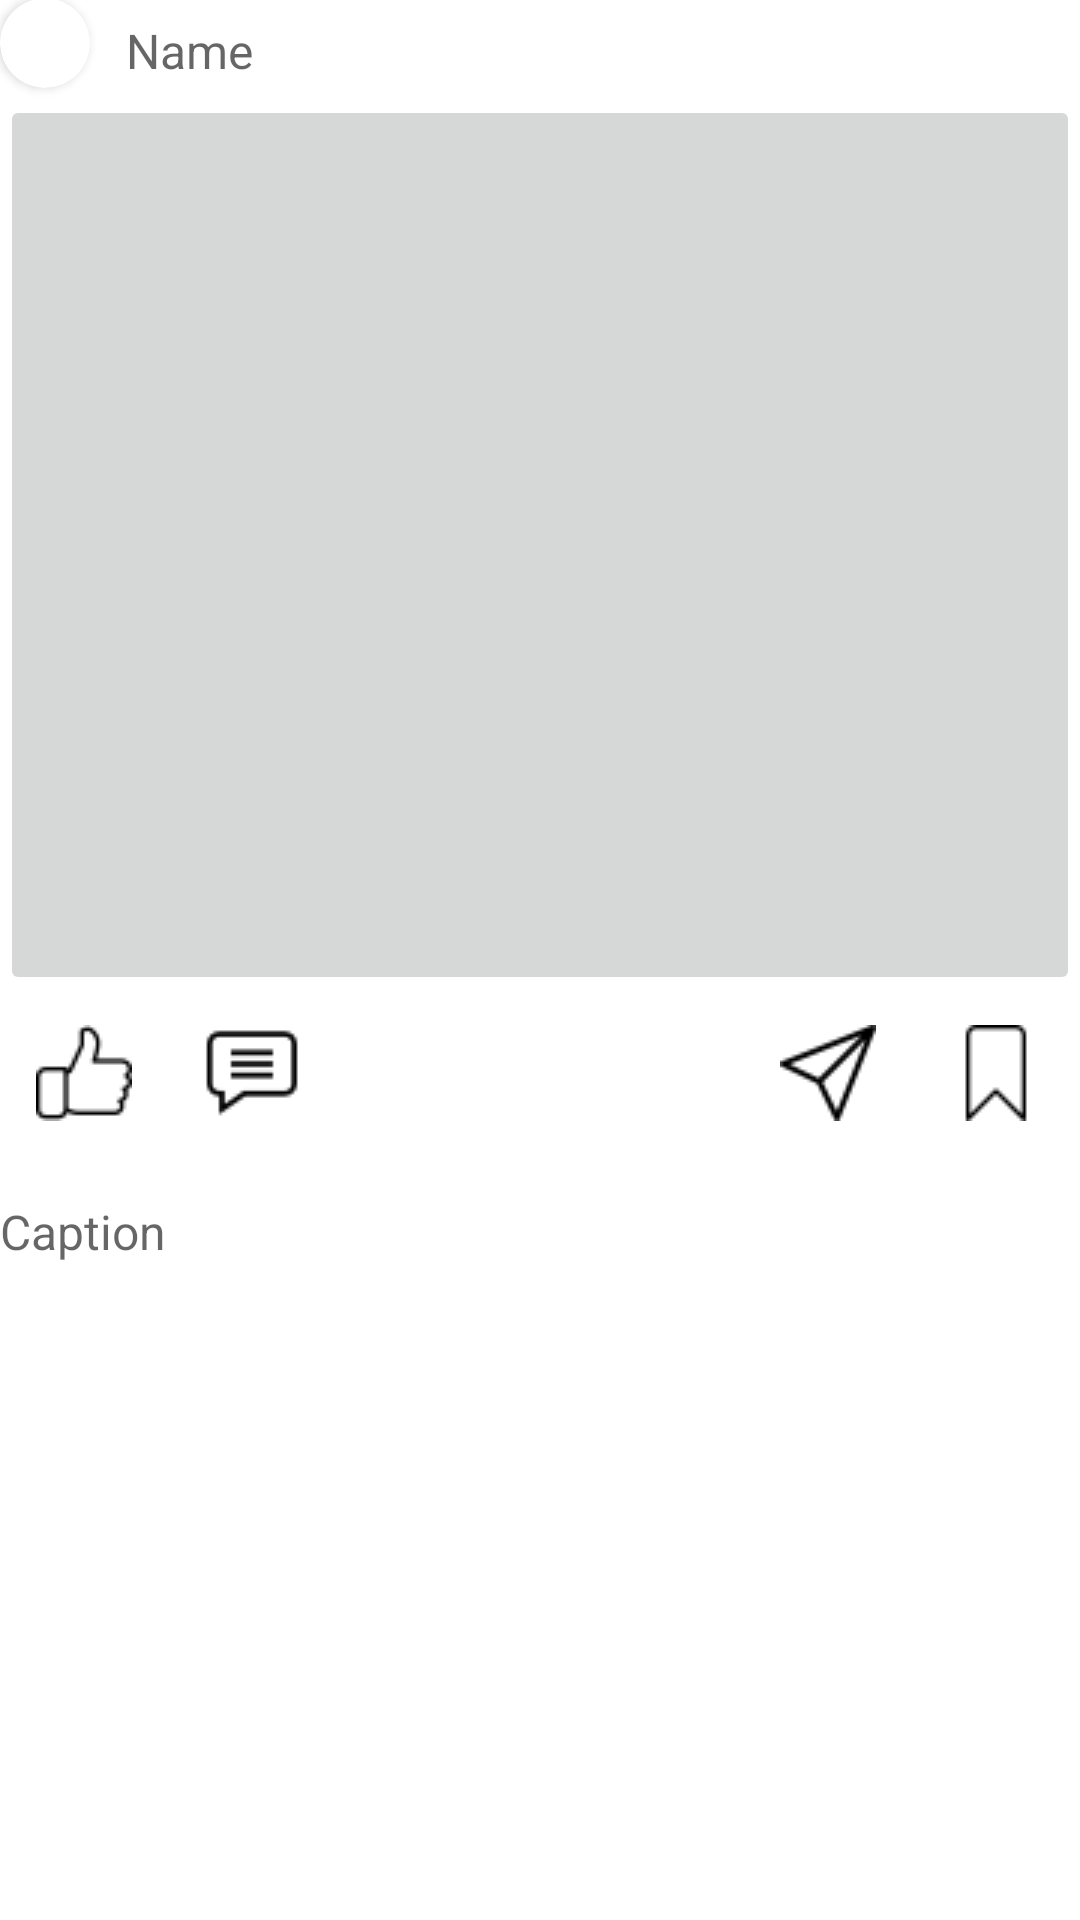

Locate icon controls on the screen. Image size 1080x1920, boxes as (x1, y1, x2, y2).
bookmark: (965, 1025, 1027, 1121)
comment: (206, 1030, 298, 1116)
like: (36, 1025, 132, 1121)
send: (780, 1025, 876, 1121)
